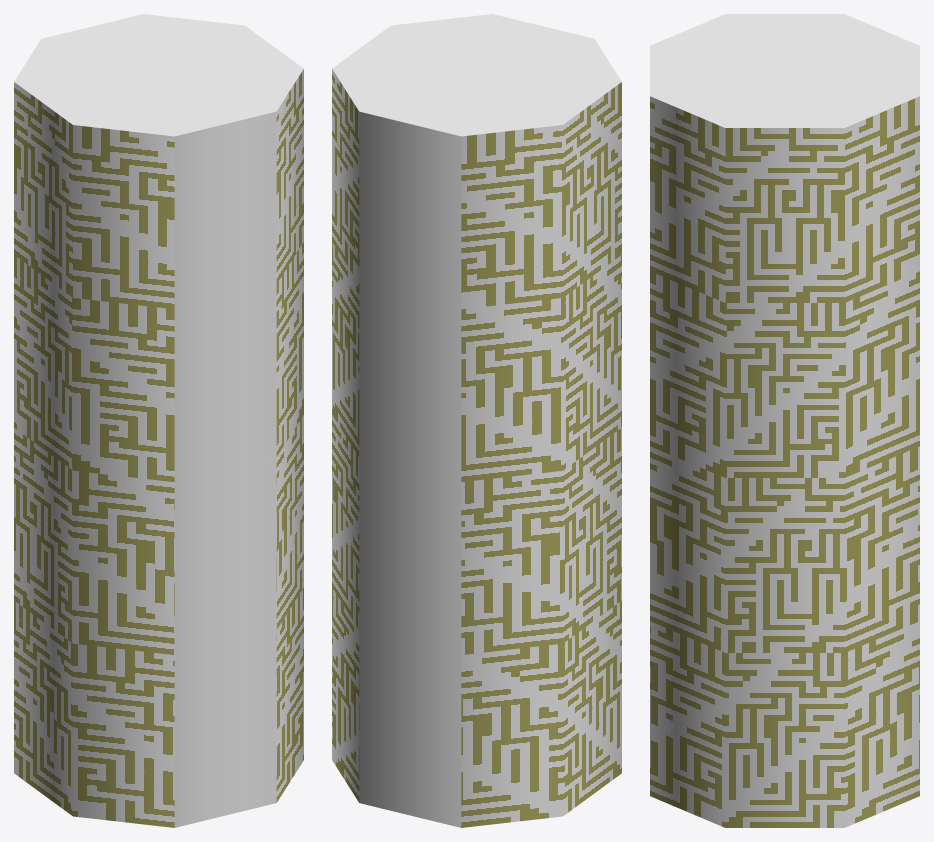
File: pillar1-convcol.gltf
3 renders of one model, left to right at view 1: azimuth 30°, elevation 25°; view 2: azimuth 150°, elevation 25°; view 3: azimuth 270°, elevation 25°, orthographic.
Visible parts, largest first — view 1: pillar1-convcol; view 2: pillar1-convcol; view 3: pillar1-convcol.
Boxes of the visible parts, <box> form: pillar1-convcol: <box>14,14,303,827</box>; pillar1-convcol: <box>332,14,621,827</box>; pillar1-convcol: <box>650,14,919,827</box>.
Bounding box in the file's own units: 1.4 × 4.01 × 1.4.
Materials: 1 (1 with a texture image).
